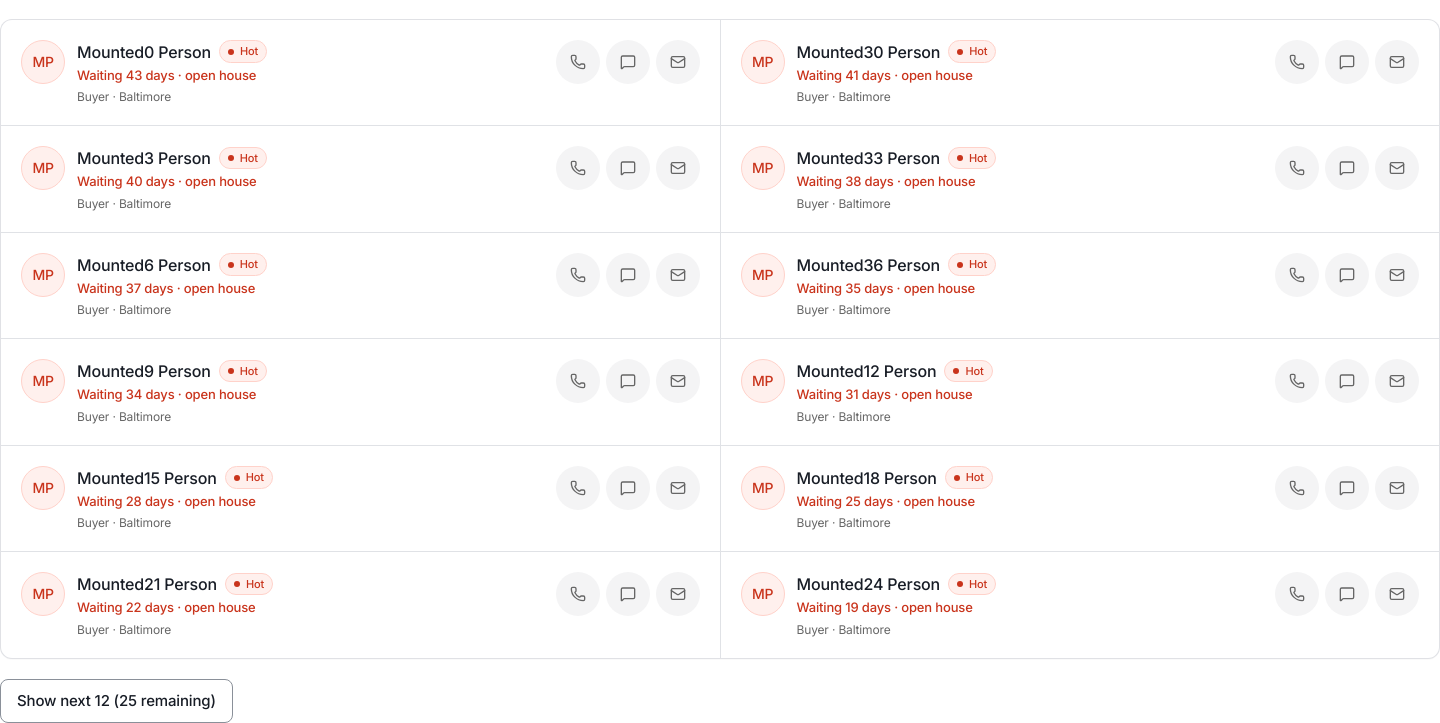
RelationshipQueue mounted interactions › reveals populated batches 12 → 24 → 36 → final and focuses terminal status
(page scrolled)
Click the button "Show next 12 (25 remaining)": (116, 701) top-left (0, 678), bottom-right (233, 722)
(page scrolled)
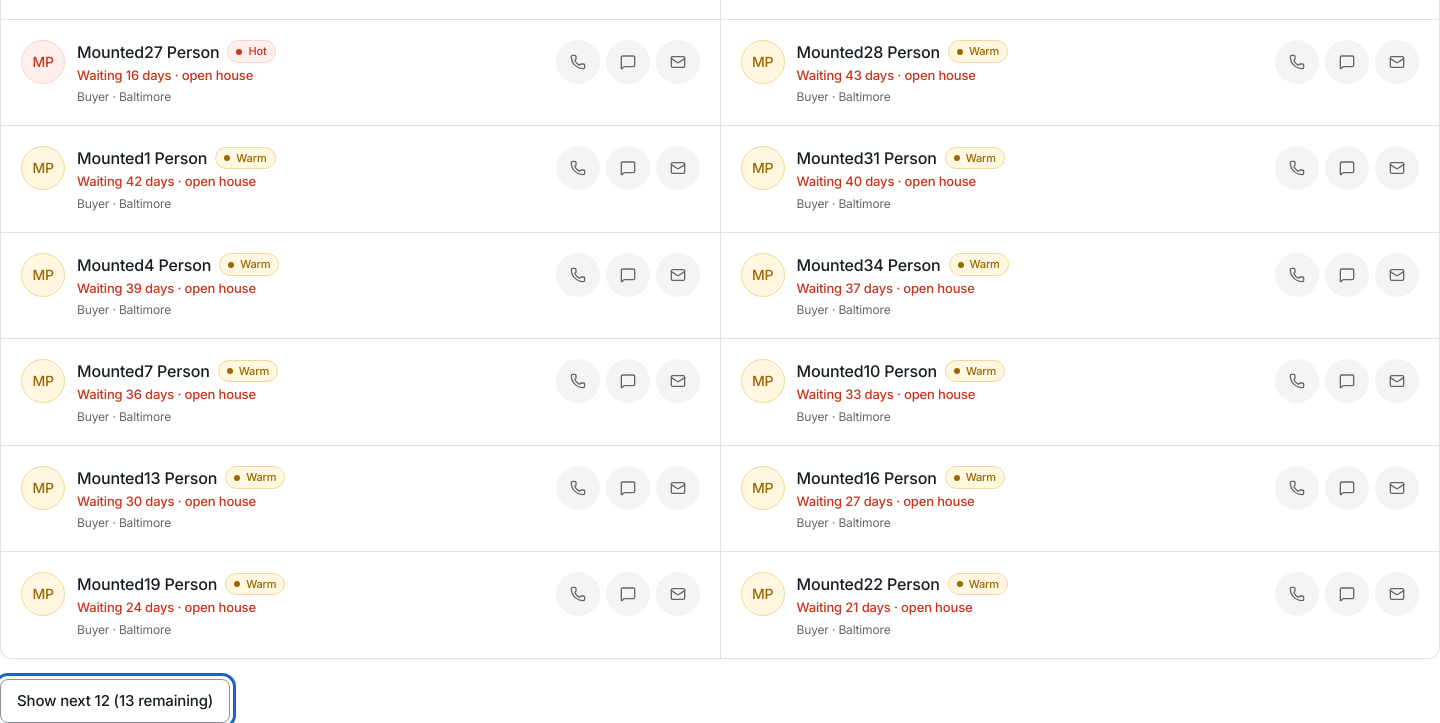
Click the button "Show next 12 (13 remaining)": (115, 701) top-left (0, 678), bottom-right (230, 722)
(page scrolled)
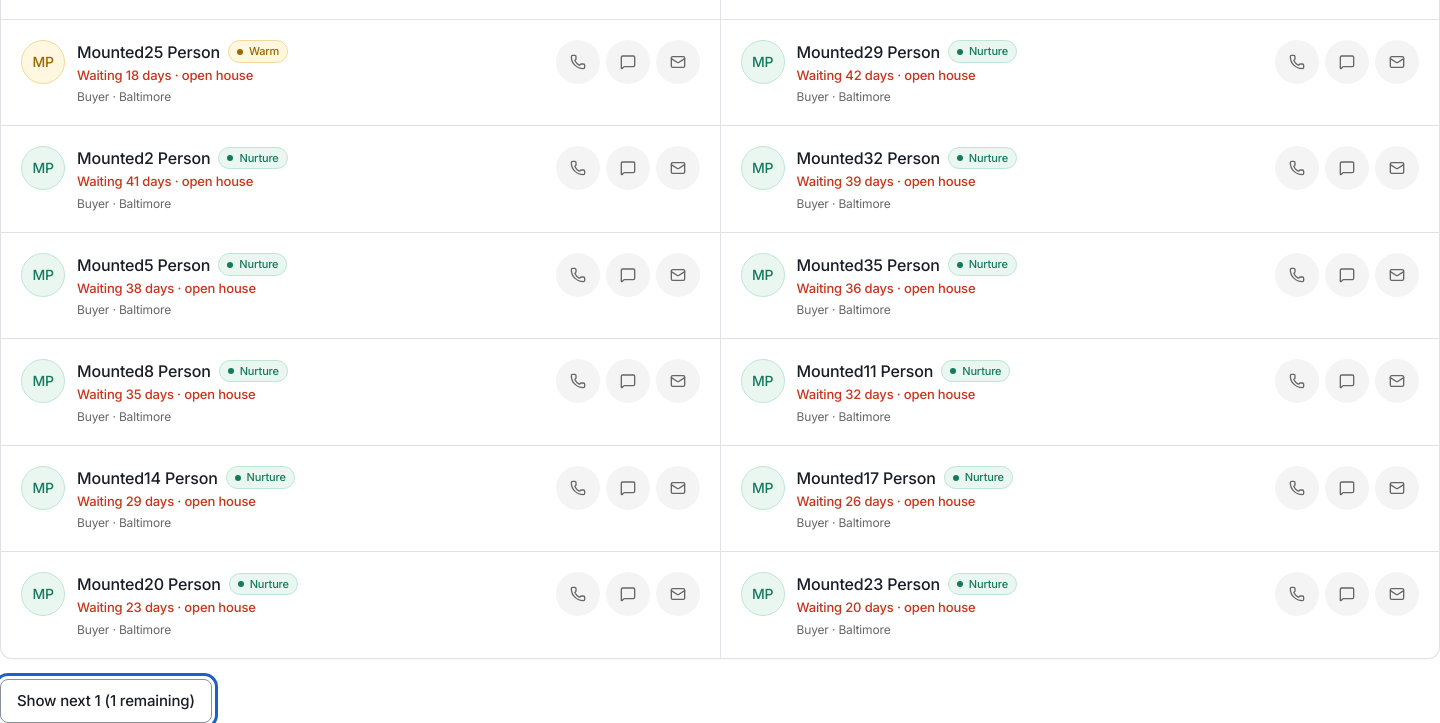
Click the button "Show next 1 (1 remaining)": (106, 701) top-left (0, 678), bottom-right (212, 722)
(page scrolled)
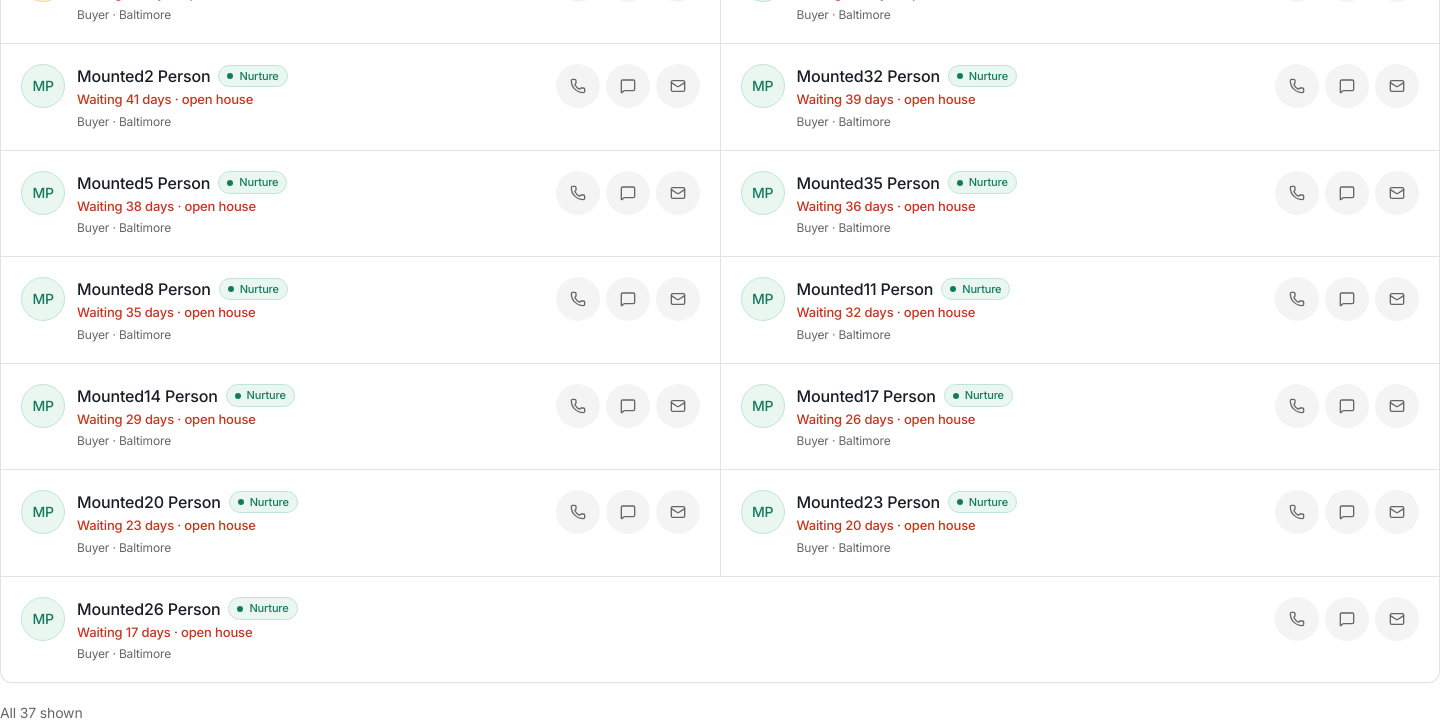
Expected: the button "Show next" is gone
